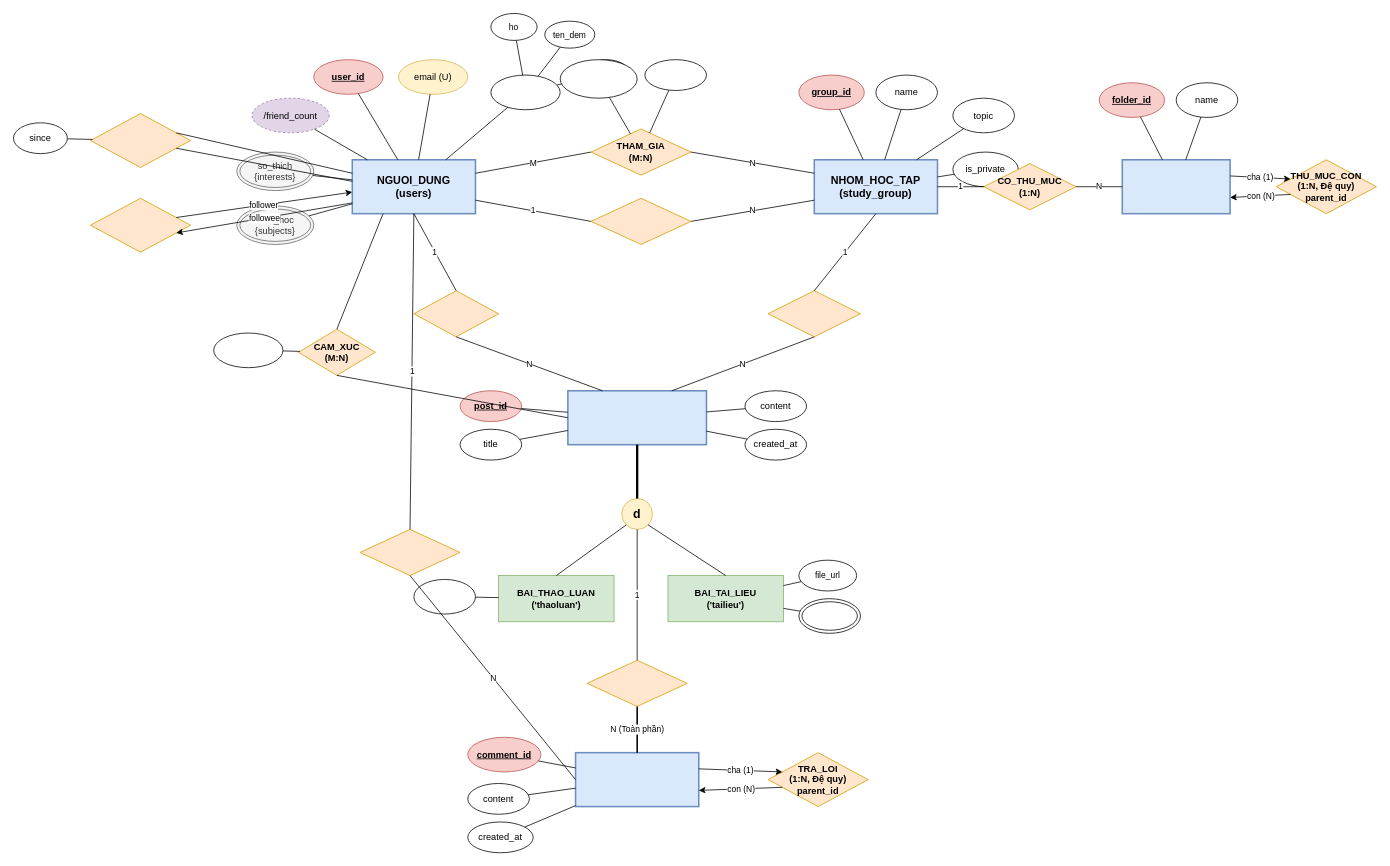
The diagram is 1390 pixels wide and 866 high, and some of its shapes have lost their labels. The box of each missing label's shape, as (x1, y1, x2, y2) in pixels:
BAI_DANG (post): (567, 390, 707, 445)
BINH_LUAN (comment): (574, 752, 699, 807)
CO_BINH_LUAN (1:N): (586, 660, 687, 706)
DANG_BAI (1:N) author_id: (413, 290, 499, 337)
ho_ten: (490, 74, 560, 110)
is_closed (khoa_bl): (413, 579, 475, 614)
joined_at: (644, 59, 706, 90)
KET_BAN (M:N, Đệ quy) user_a < user_b: (90, 113, 191, 167)
kind ('like',...): (213, 332, 283, 368)
role ('owner'/'mod'/'member'): (559, 59, 637, 98)
SO_HUU (1:N) owner_id: (590, 198, 691, 244)
tap_nhan {tags}: (798, 598, 860, 633)
THEO_DOI (M:N, Có hướng) follower/followee: (90, 198, 191, 252)
THU_MUC (folder): (1121, 159, 1230, 214)
THUOC_NHOM (1:N) group_id: (767, 290, 860, 337)
VIET_BINH_LUAN (1:N) author_id: (359, 529, 460, 576)
